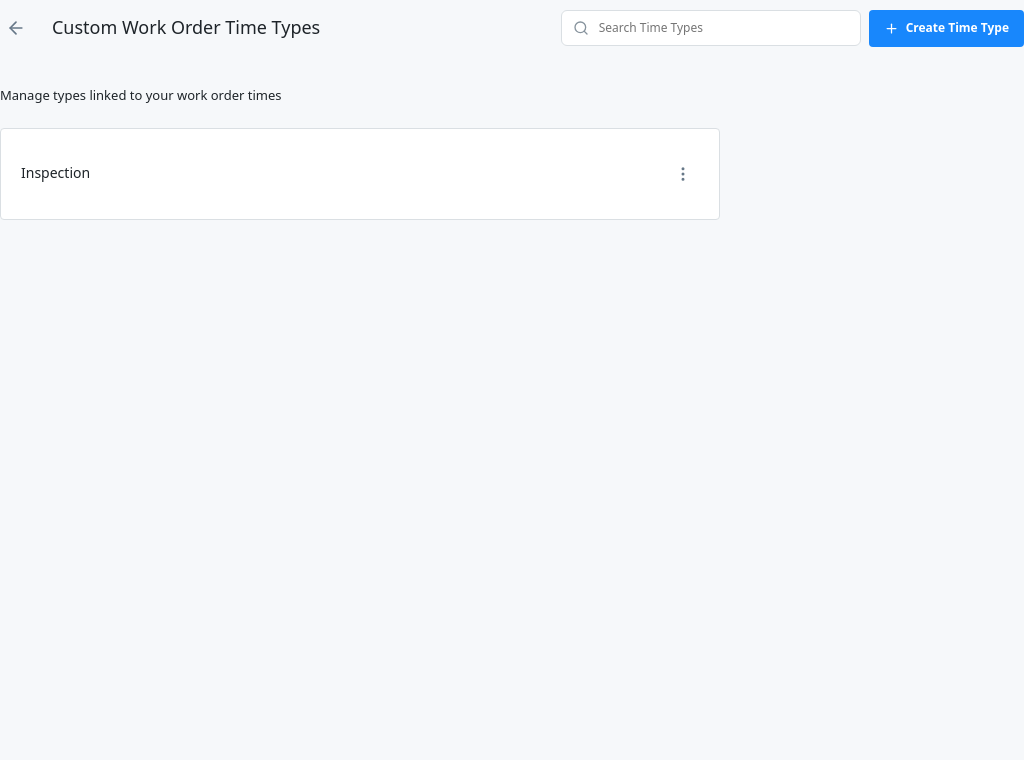
WorkOrderTrackingTypesPage › renders the edit modal as an isolated accessible dialog
Check: the text "Inspection" is shown, box [21,165,90,182]
Click the button named "More options for Inspection".
click(683, 174)  # box [667,158,699,190]
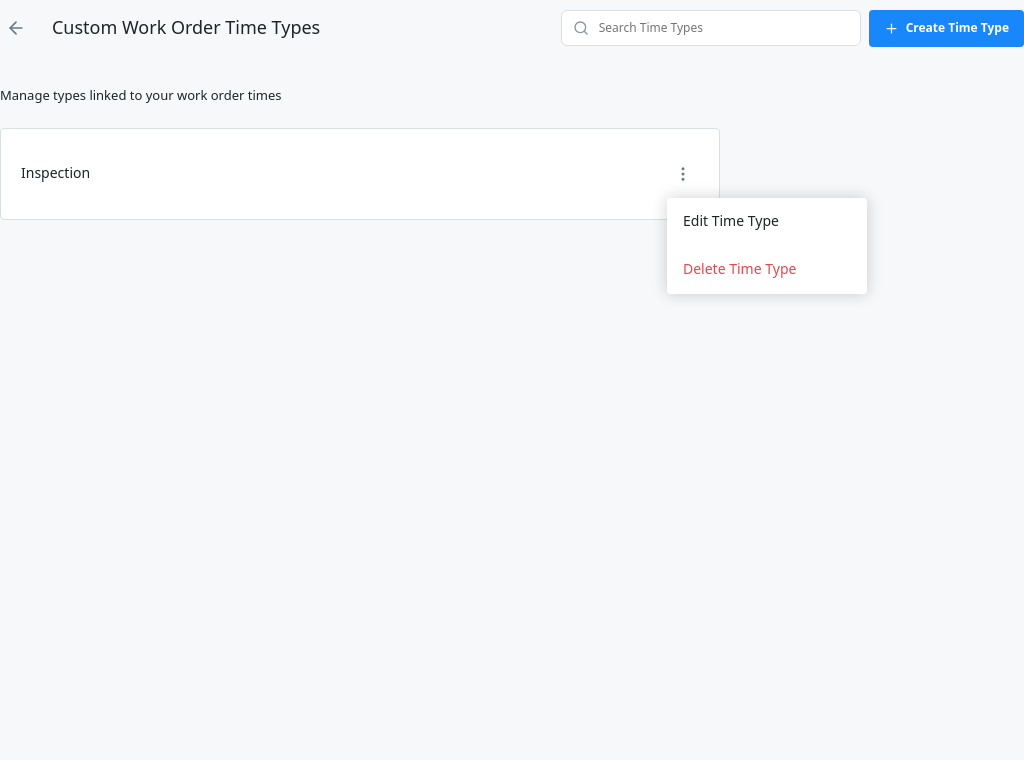
Click the menu item "Edit Time Type".
click(767, 222)  # box [667,198,867,246]
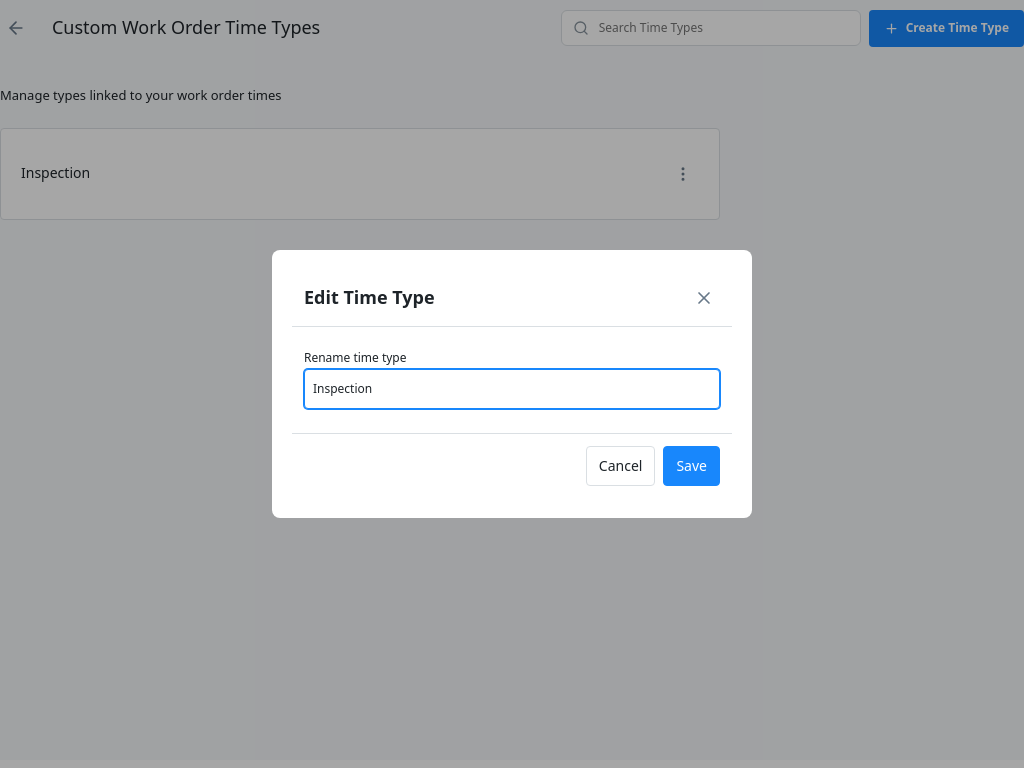
Check: the element with class "work-order-time-modal-header" is shown, box [292,270,732,327]
Check: the field labelled "Rename time type" holds "Inspection", box [304,369,720,409]
Check: the button named "Close" is shown, box [688,282,720,314]
